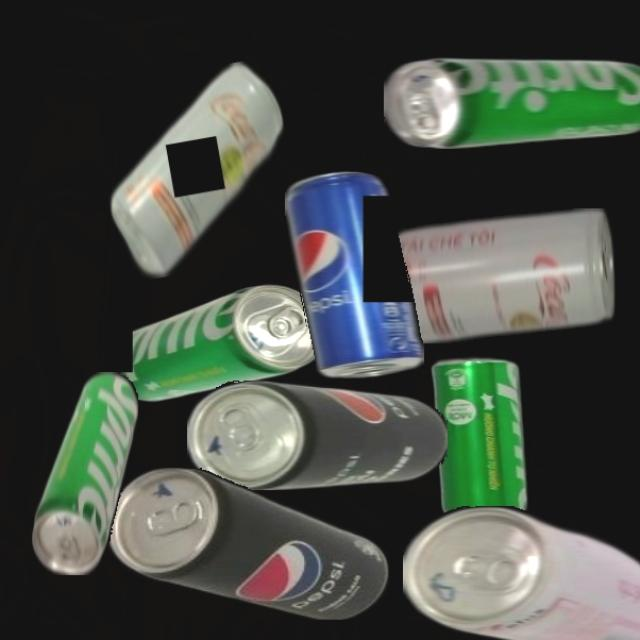debris: (89, 56, 306, 284), (107, 467, 389, 620), (403, 505, 640, 640), (384, 208, 616, 344), (285, 170, 424, 379), (187, 380, 448, 490), (102, 284, 326, 403), (384, 56, 640, 149), (31, 371, 138, 575), (430, 355, 530, 523)
